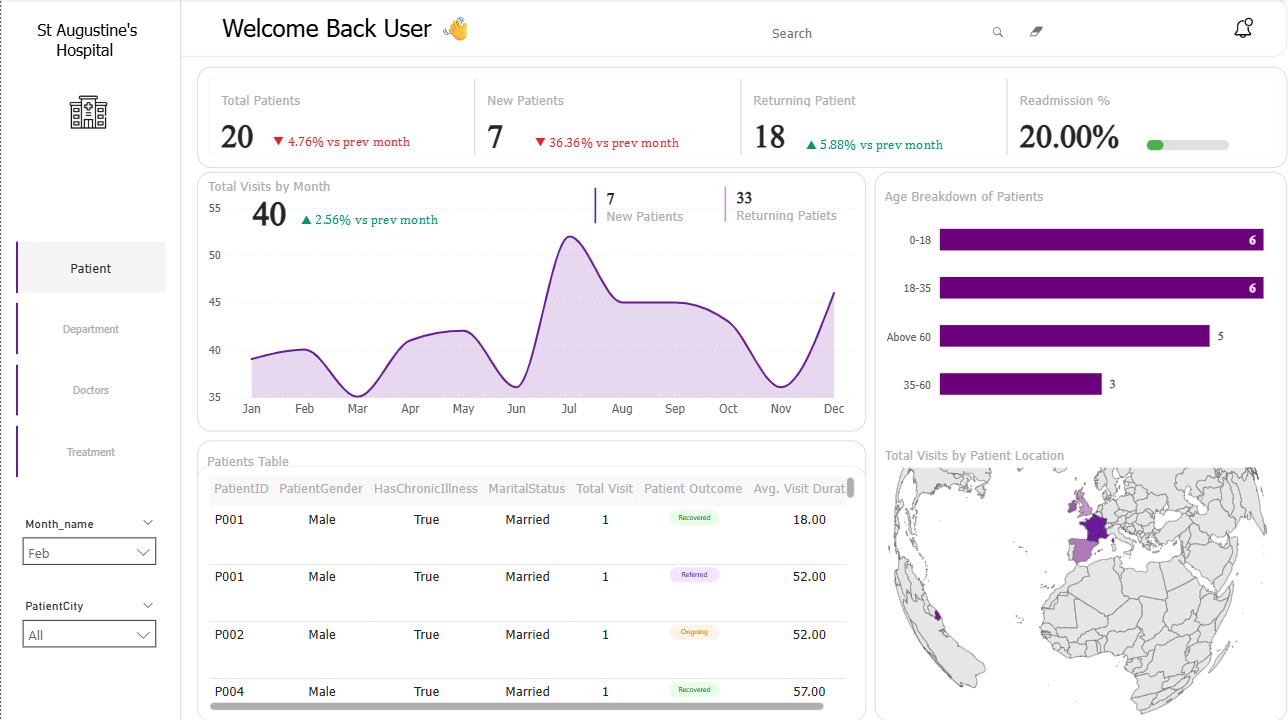

The page's visual inventory and layout, read from the dashboard file:
{"tool":"powerbi","page":{"name":"Patient","canvas":[1280,720],"ordinal":0},"visuals":[{"type":"lineChart","title":"Total Visits by Month","fields":{"Y":["CountNonNull(FactTable.VisitID)"],"Category":["Calendar.Month_name"]},"box":[195.3,172.9,665.5,258.7],"z":0},{"type":"shape","box":[195.3,440.4,665.5,279.9],"z":1000},{"type":"shape","box":[869.5,172.9,410.5,547.3],"z":2000},{"type":"shape","box":[0,0,1280,58.5],"z":3000},{"type":"shape","box":[0,0,179.1,720.3],"z":4000},{"type":"textbox","box":[215.2,8.7,571,44.8],"z":5000},{"type":"textbox","box":[11.2,17.4,149.3,70.9],"z":6000},{"type":"pageNavigator","box":[14.9,242.6,149.3,235.1],"z":7000},{"type":"cardVisual","fields":{"Data":["Calculations.Total Patients","Calculations.New Patients","Calculations.Returning Patient","Calculations.Readmission %"]},"box":[195.3,68.4,1084.7,100.8],"z":8000},{"type":"clusteredBarChart","fields":{"Category":["Patient_Dim.Patient Age Group"],"Y":["CountNonNull(Patient_Dim.PatientID)"]},"box":[869.5,197.8,405.5,223.9],"z":9000},{"type":"multiRowCard","fields":{"Values":["FactTable.VisitID"]},"box":[585.9,183.9,105.7,53.5],"z":10000},{"type":"multiRowCard","fields":{"Values":["FactTable.VisitID"]},"box":[715.3,182.9,140.6,53.5],"z":11000},{"type":"tableEx","fields":{"Values":["Patient_Dim.PatientID","Patient_Dim.PatientGender","FactTable.HasChronicIllness","Patient_Dim.PatientMaritalStatus","Calculations.Total Visit","FactTable.Pill Category","Avg(FactTable.VisitDurationMinutes)"]},"box":[195.3,465.2,665.5,255],"z":12000},{"type":"shapeMap","title":"Total Visits by Patient Location","fields":{"Value":["Calculations.Total Visit"],"Category":["Patient_Dim.PatientCity"]},"box":[874.5,446.6,405.5,273.7],"z":13000},{"type":"textbox","box":[874.5,182.9,179.1,48.5],"z":14000},{"type":"card","fields":{"Values":["Calculations.Total Visit"]},"box":[195.3,184.1,144.3,58.5],"z":15000},{"type":"textFilter25A4896A83E0487089E2B90C9AE57C8A","fields":{"field":["Patient_Dim.PatientID"]},"box":[752.6,11.2,301,41.1],"z":16000},{"type":"image","box":[1220.3,14.9,32.3,29.9],"z":17000},{"type":"image","box":[63.4,88.3,47.3,51],"z":18000},{"type":"textbox","box":[200.3,446.6,139.3,48.5],"z":19000},{"type":"cardVisual","fields":{"Data":["Calculations.Total visit MOM"]},"box":[255,185.3,223.9,61],"z":20000},{"type":"slicer","fields":{"Values":["Calendar.Month_name"]},"box":[11.2,511.3,153,58.5],"z":21000},{"type":"cardVisual","fields":{"Data":["Calculations.Total Patients MOM"]},"box":[227.6,108.2,223.9,61],"z":22000},{"type":"cardVisual","fields":{"Data":["Calculations.New patients MOM"]},"box":[491.4,109.5,223.9,61],"z":23000},{"type":"cardVisual","fields":{"Data":["Calculations.Returning patients MOM"]},"box":[757.6,110.7,223.9,61],"z":24000},{"type":"cardVisual","fields":{"Data":["Calculations.Readmission %"]},"box":[1119.5,113.2,160.5,69.7],"z":25000},{"type":"slicer","fields":{"Values":["Patient_Dim.PatientCity"]},"box":[11,593.4,153,58.5],"z":26000}]}

Visuals, with their boxes in screenshot pixels (x1, y1, x2, y2), scaled from the page's 1280x720 canvas onto the 1288x720 screenshot:
"Total Visits by Month" lineChart: Rect(197, 173, 866, 432)
shape: Rect(197, 440, 866, 719)
shape: Rect(875, 173, 1287, 719)
shape: Rect(0, 0, 1287, 58)
shape: Rect(0, 0, 180, 719)
textbox: Rect(217, 9, 791, 54)
textbox: Rect(11, 17, 162, 88)
pageNavigator: Rect(15, 243, 165, 478)
cardVisual - Calculations.Total Patients x Calculations.New Patients: Rect(197, 68, 1287, 169)
clusteredBarChart - Patient_Dim.Patient Age Group x CountNonNull(Patient_Dim.PatientID): Rect(875, 198, 1283, 422)
multiRowCard - FactTable.VisitID: Rect(590, 184, 696, 237)
multiRowCard - FactTable.VisitID: Rect(720, 183, 861, 236)
tableEx - Patient_Dim.PatientID x Patient_Dim.PatientGender: Rect(197, 465, 866, 719)
"Total Visits by Patient Location" shapeMap: Rect(880, 447, 1287, 719)
textbox: Rect(880, 183, 1060, 231)
card - Calculations.Total Visit: Rect(197, 184, 342, 243)
textFilter25A4896A83E0487089E2B90C9AE57C8A - Patient_Dim.PatientID: Rect(757, 11, 1060, 52)
image: Rect(1228, 15, 1260, 45)
image: Rect(64, 88, 111, 139)
textbox: Rect(202, 447, 342, 495)
cardVisual - Calculations.Total visit MOM: Rect(257, 185, 482, 246)
slicer - Calendar.Month_name: Rect(11, 511, 165, 570)
cardVisual - Calculations.Total Patients MOM: Rect(229, 108, 454, 169)
cardVisual - Calculations.New patients MOM: Rect(494, 110, 720, 170)
cardVisual - Calculations.Returning patients MOM: Rect(762, 111, 988, 172)
cardVisual - Calculations.Readmission %: Rect(1126, 113, 1287, 183)
slicer - Patient_Dim.PatientCity: Rect(11, 593, 165, 652)
